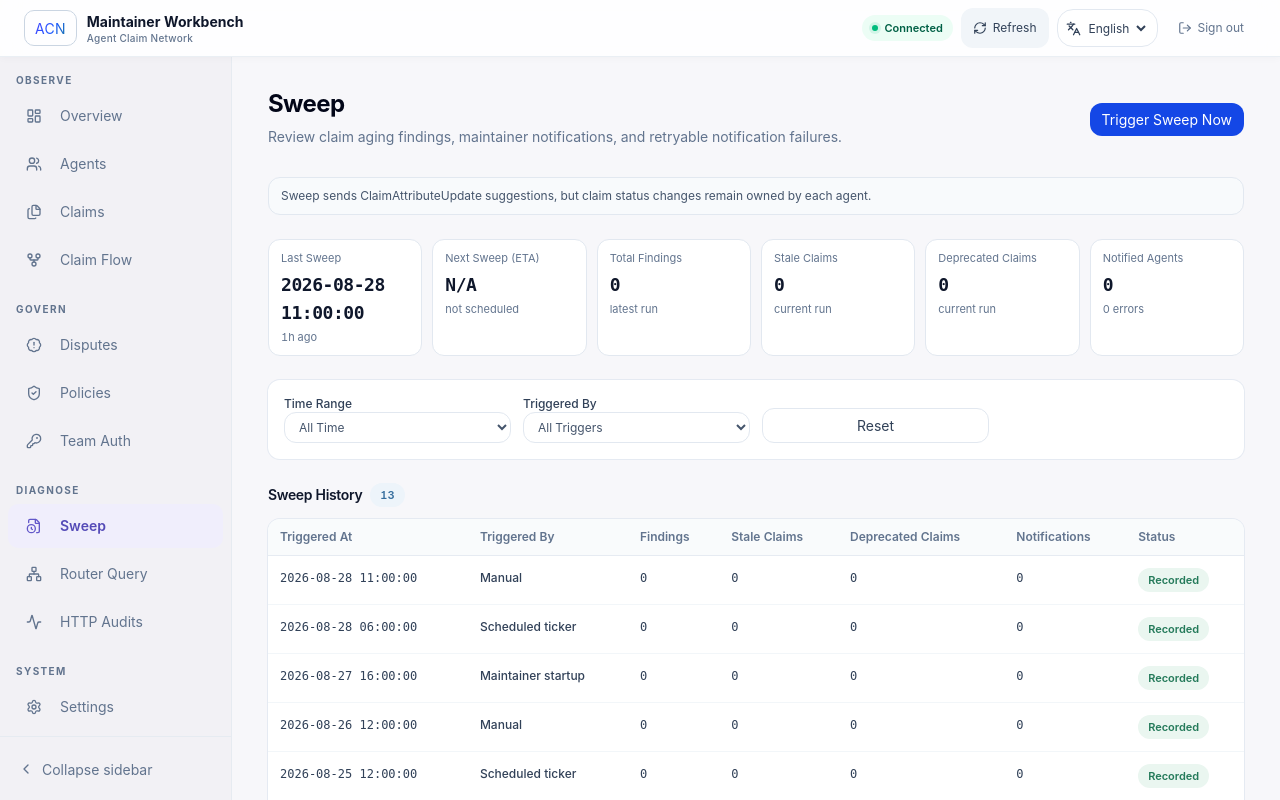
Test: SweepPage history filters and pagination › starts candidate sections collapsed and allows independent expansion
expect the heading "Sweep History" is shown: met, box left=268, top=485, right=362, bottom=505
Click the row "2026-08-28 11:00:00 Manual 0 0 0 0 recorded" at (756, 580), box left=268, top=556, right=1244, bottom=604
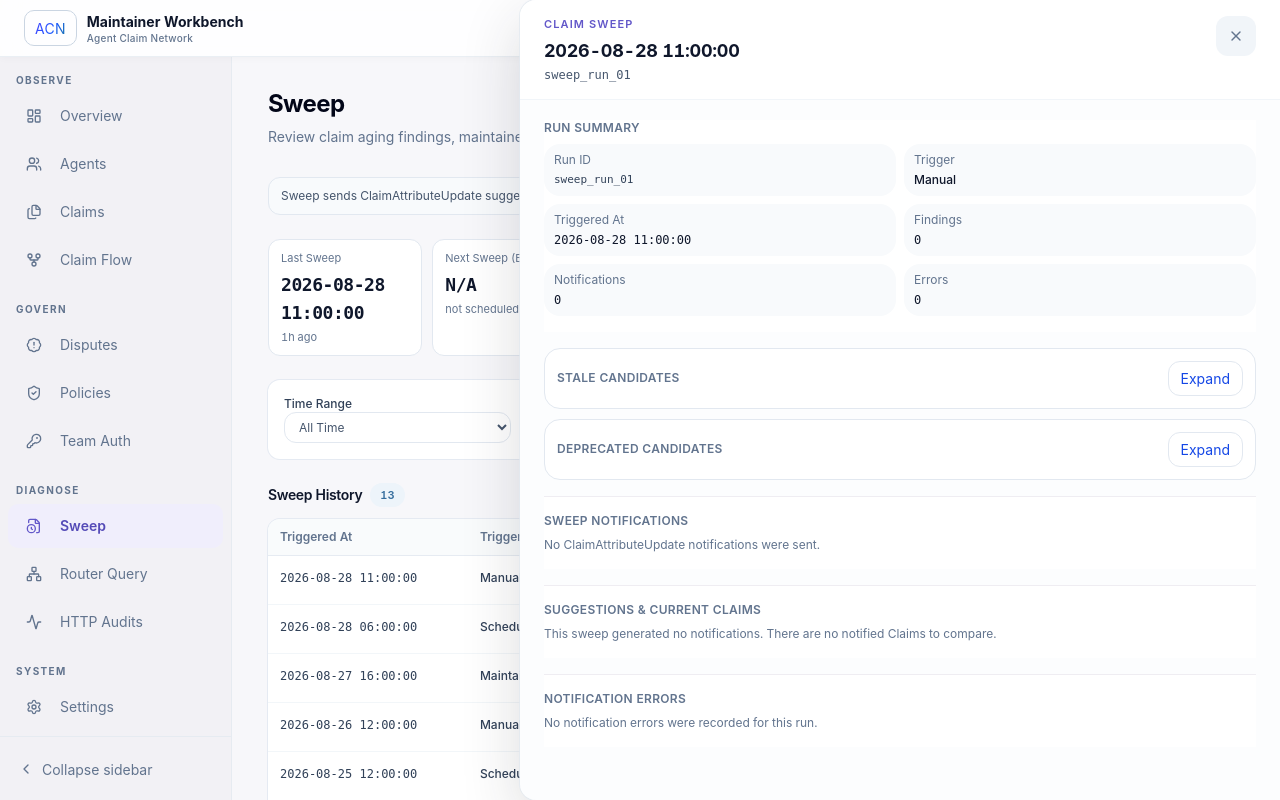
Click the button with aria-label "Expand Stale Candidates" at (1205, 378), box left=1168, top=360, right=1243, bottom=396
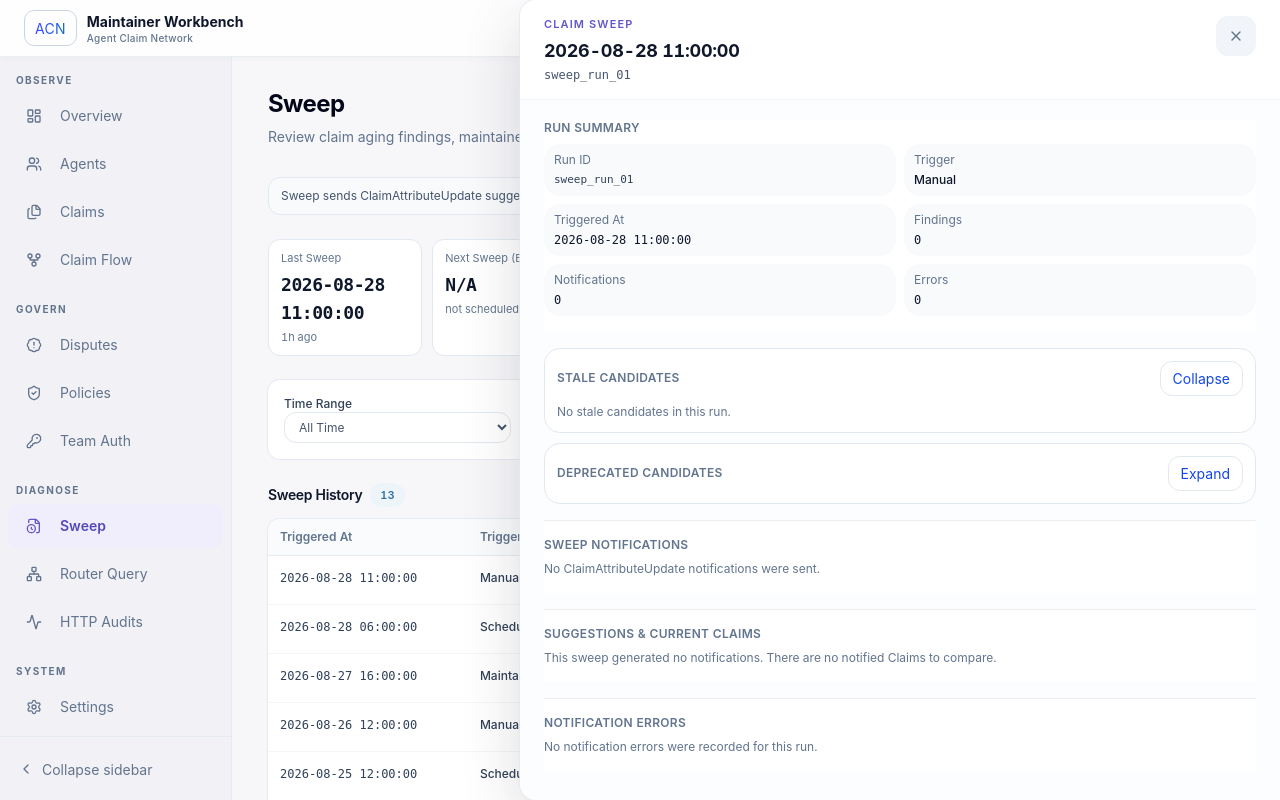
expect the text "No stale candidates in this run." is shown: met, box left=557, top=404, right=731, bottom=418
Click the button with aria-label "Collapse Stale Candidates" at (1201, 378), box left=1160, top=360, right=1243, bottom=396
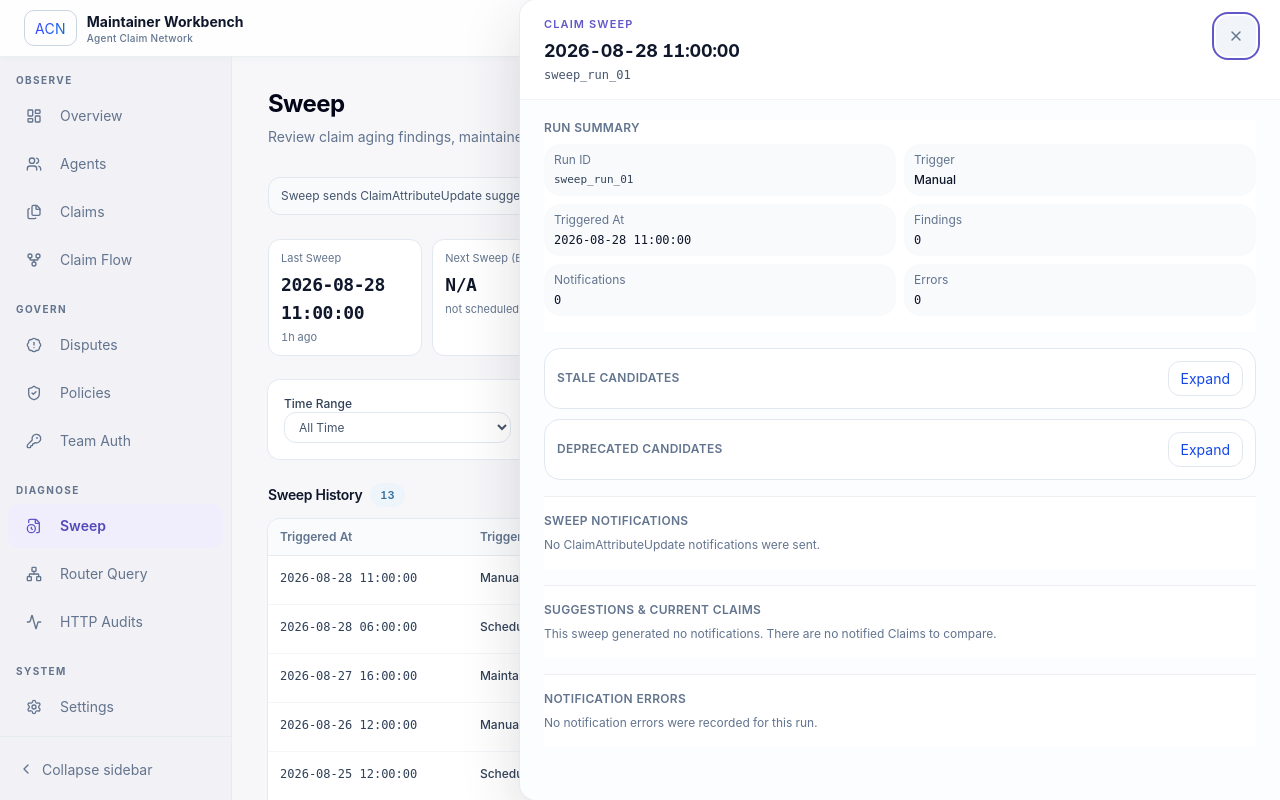
expect the text "No stale candidates in this run." is gone: met
